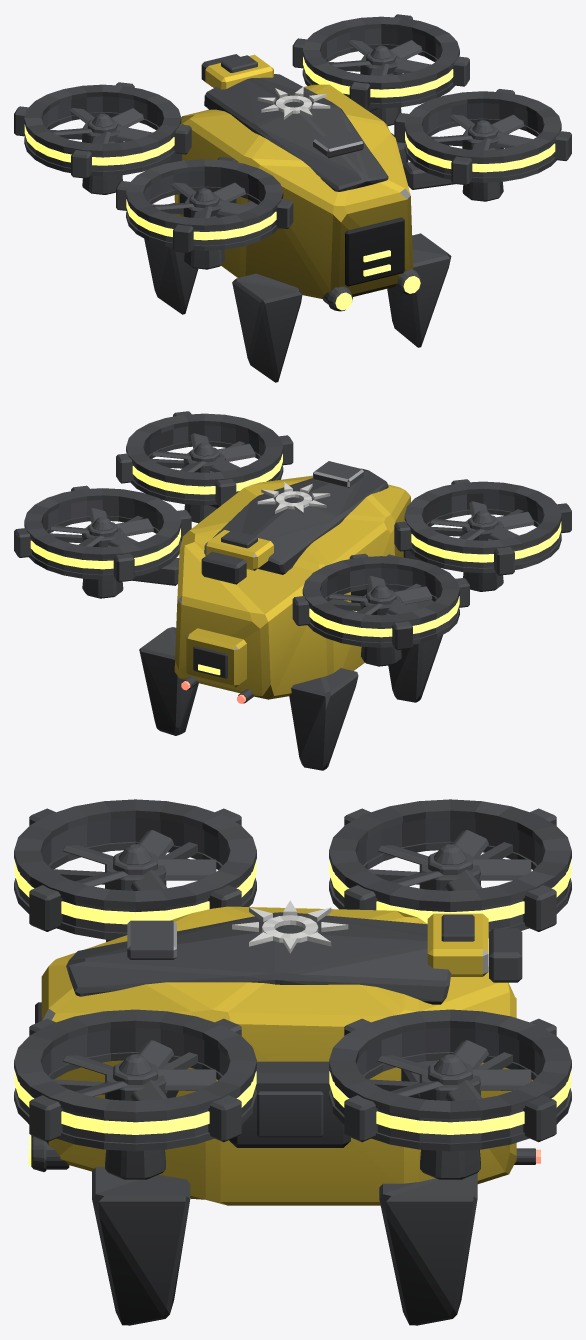
Rendered from heatsinkDroneSpectre.f66809c1.glb.
3 views of the same model, one above another, from view 1: azimuth 30°, elevation 25°; view 2: azimuth 150°, elevation 25°; view 3: azimuth 270°, elevation 25° (orthographic). The views are drawn at different scales.
Parts seen in each view (by area): view 1: Spectre_body, gear_BL, gear_BR, gear_FL, rotor_FL, rotor_RL, rotor_FR, rotor_RR, nozzle_L, nozzle_R; view 2: Spectre_body, gear_FL, gear_FR, gear_BL, rotor_FL, rotor_FR, rotor_RR, rotor_RL; view 3: Spectre_body, gear_BR, gear_FR, flap_R, rotor_FL, rotor_FR, rotor_RL, rotor_RR, nozzle_R.
Part boxes in pixels (x1=…): Spectre_body: x1=14, y1=14, x2=571, y2=298; gear_BL: x1=232, y1=273, x2=302, y2=382; gear_BR: x1=387, y1=233, x2=451, y2=347; gear_FL: x1=144, y1=202, x2=198, y2=314; rotor_FL: x1=50, y1=108, x2=152, y2=143; rotor_RL: x1=153, y1=182, x2=254, y2=218; rotor_FR: x1=329, y1=40, x2=430, y2=75; rotor_RR: x1=431, y1=114, x2=532, y2=150; nozzle_L: x1=322, y1=286, x2=352, y2=311; nozzle_R: x1=395, y1=269, x2=420, y2=294; Spectre_body: x1=14, y1=411, x2=571, y2=699; gear_FL: x1=289, y1=668, x2=358, y2=770; gear_FR: x1=139, y1=627, x2=198, y2=735; gear_BL: x1=388, y1=600, x2=442, y2=702; rotor_FL: x1=328, y1=576, x2=432, y2=614; rotor_FR: x1=50, y1=508, x2=153, y2=546; rotor_RR: x1=152, y1=433, x2=255, y2=472; rotor_RL: x1=430, y1=501, x2=534, y2=540; Spectre_body: x1=14, y1=799, x2=571, y2=1205; gear_BR: x1=92, y1=1167, x2=190, y2=1325; gear_FR: x1=379, y1=1173, x2=477, y2=1325; flap_R: x1=229, y1=1061, x2=350, y2=1147; rotor_FL: x1=377, y1=830, x2=531, y2=890; rotor_FR: x1=377, y1=1040, x2=531, y2=1100; rotor_RL: x1=63, y1=830, x2=216, y2=890; rotor_RR: x1=63, y1=1040, x2=216, y2=1100; nozzle_R: x1=28, y1=1135, x2=69, y2=1171.
Bounding box in the file's own units: 6.16 × 3.19 × 4.65.
